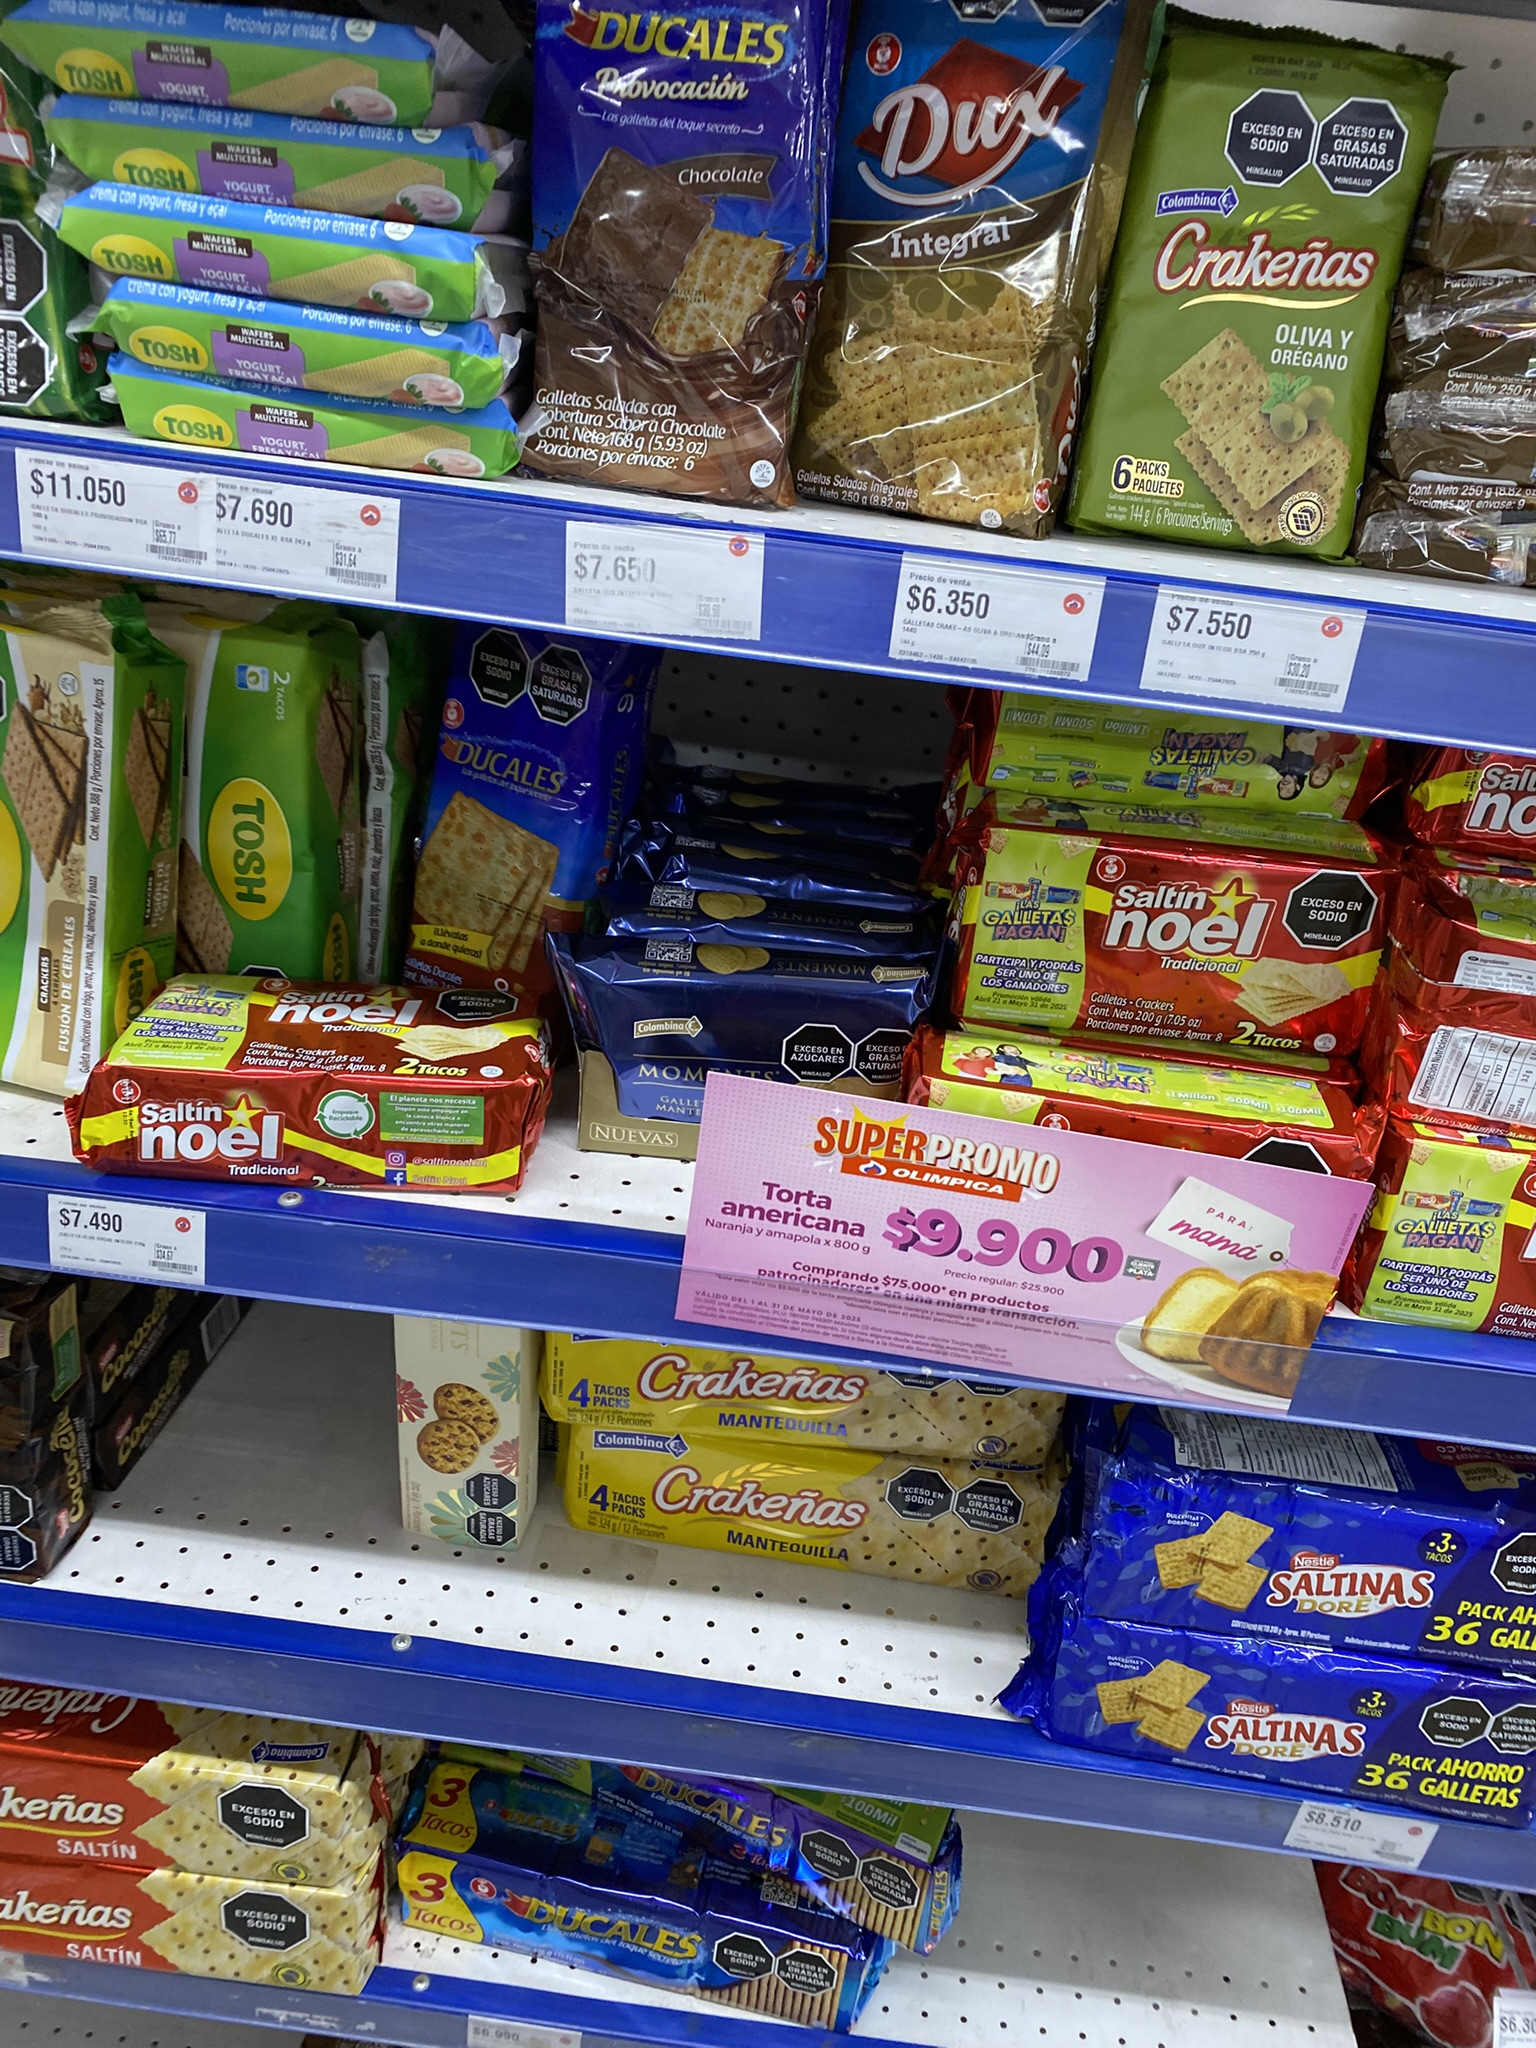Saltin Noel: (63, 959, 566, 1195), (954, 787, 1396, 1050), (1373, 1121, 1536, 1338), (1404, 898, 1536, 1145), (1396, 739, 1531, 858)
